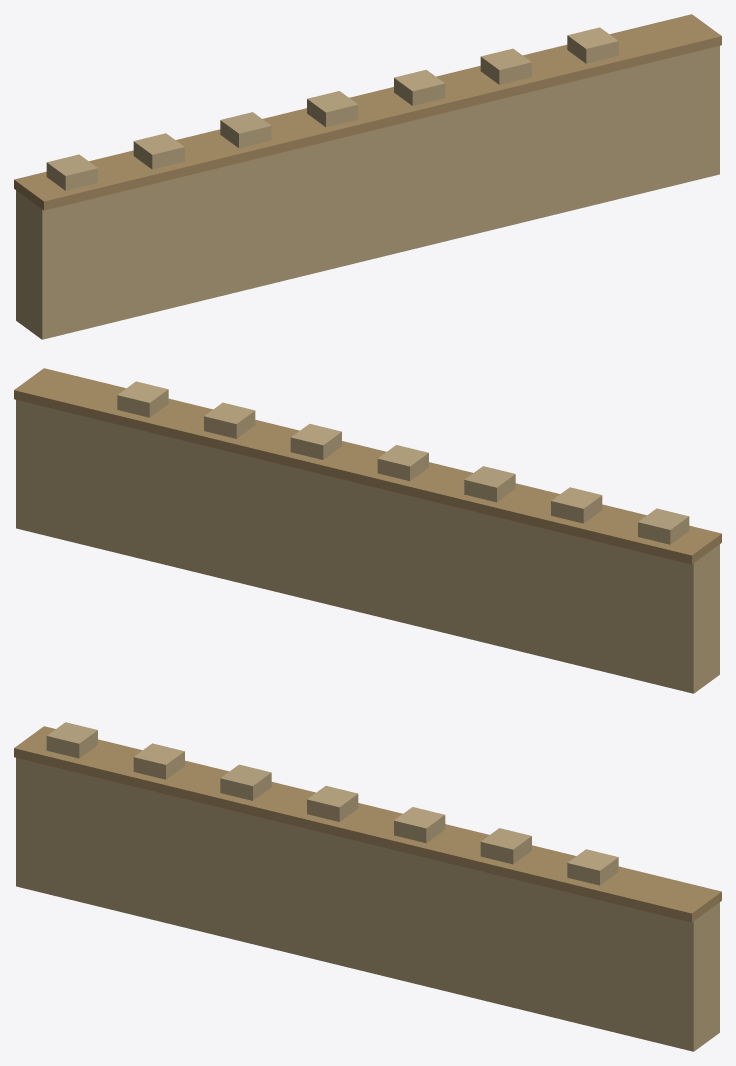
Rendered from fennec_wall.glb.
The picture shows the model from 3 angles, top to bottom: view 1: azimuth 30°, elevation 25°; view 2: azimuth 150°, elevation 25°; view 3: azimuth 330°, elevation 25°; orthographic projection.
Parts seen in each view (by area): view 1: fennec_wall; view 2: fennec_wall; view 3: fennec_wall.
Part boxes in pixels (box(x1,y1,x2,y2)): fennec_wall: box(14, 14, 721, 339); fennec_wall: box(14, 368, 721, 693); fennec_wall: box(14, 722, 721, 1051).
Size of the model in its own units: 6.25 by 1.36 by 0.48.
